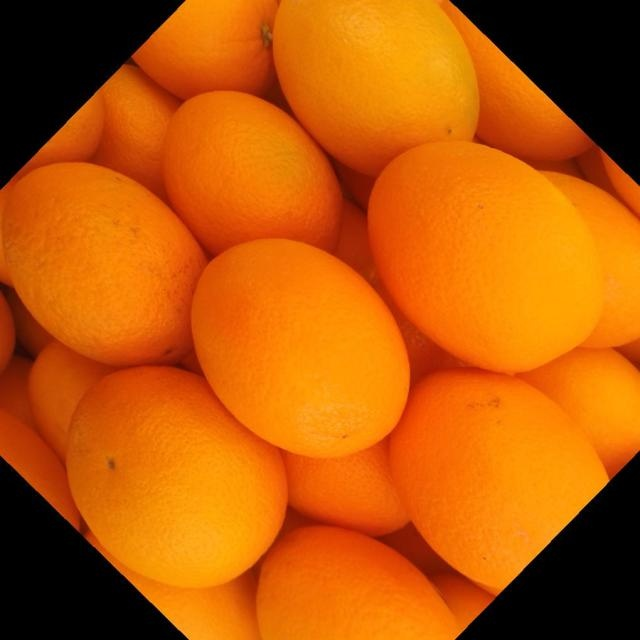agrume: (2, 1, 637, 636), (384, 334, 635, 583), (191, 239, 428, 475), (370, 141, 598, 369), (7, 135, 209, 382), (68, 367, 284, 588), (239, 486, 469, 640), (275, 1, 474, 174), (163, 91, 337, 257), (437, 0, 593, 159), (132, 0, 281, 100), (95, 65, 184, 196), (28, 342, 115, 467)
